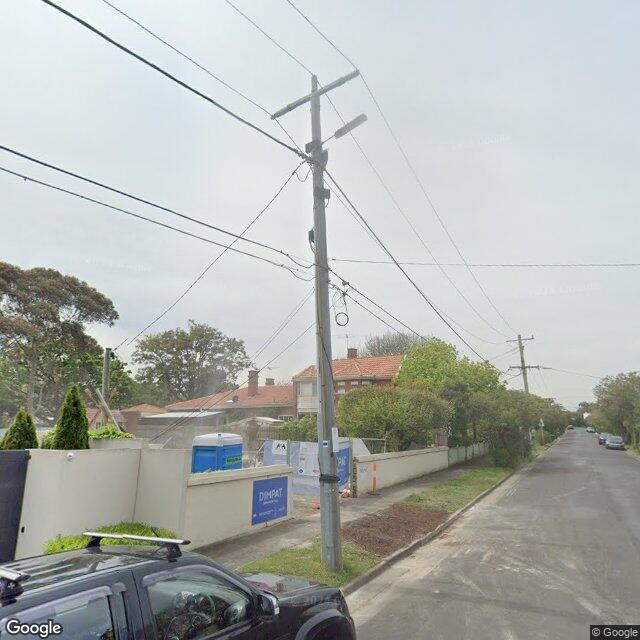HV-transmission: (270, 68, 360, 120), (506, 334, 534, 343)
crossarm: (287, 77, 345, 111), (510, 338, 531, 342), (509, 366, 540, 368)
steel-pole: (102, 347, 110, 427)
streetlight: (319, 113, 368, 147), (538, 366, 552, 369)
timber-pole: (310, 90, 343, 572), (518, 336, 529, 394)
